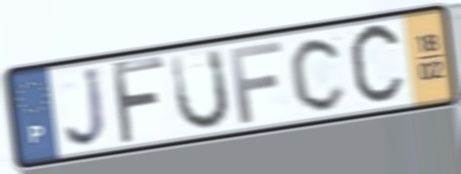C: (346, 18, 408, 112), (287, 34, 349, 114)
F: (109, 54, 168, 148), (227, 38, 285, 126)
J: (62, 64, 111, 151)
U: (168, 45, 233, 133)
